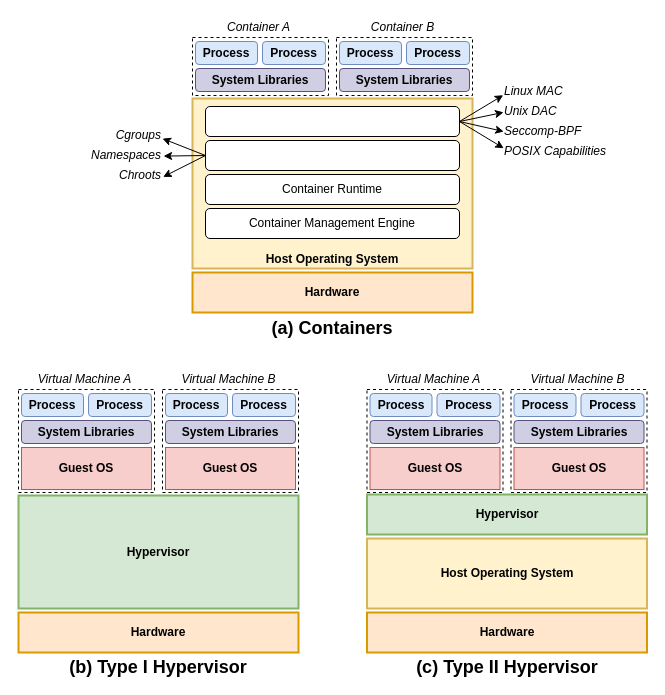
The diagram is 665 pixels wide and 695 high, and some of its shapes have lost their labels. Each missing label, with the centre of its shape:
"Confinement Layer" goes at (332,121).
"Virtualization Layer" goes at (332,155).
